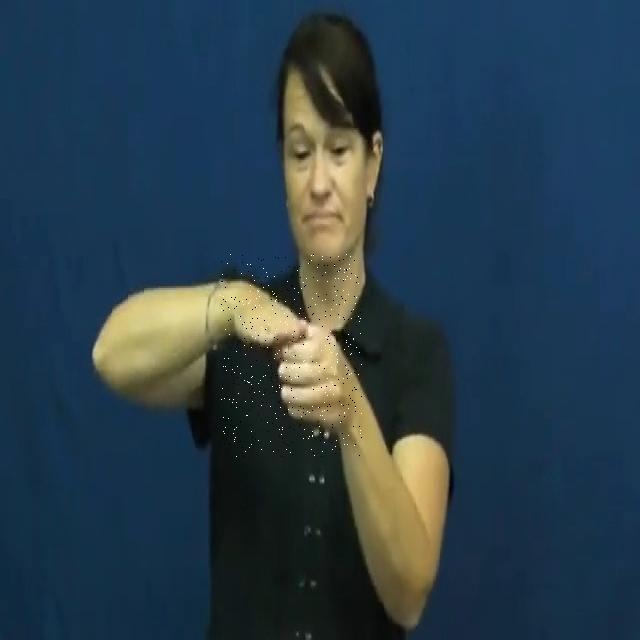lid: (220, 254, 362, 457)
